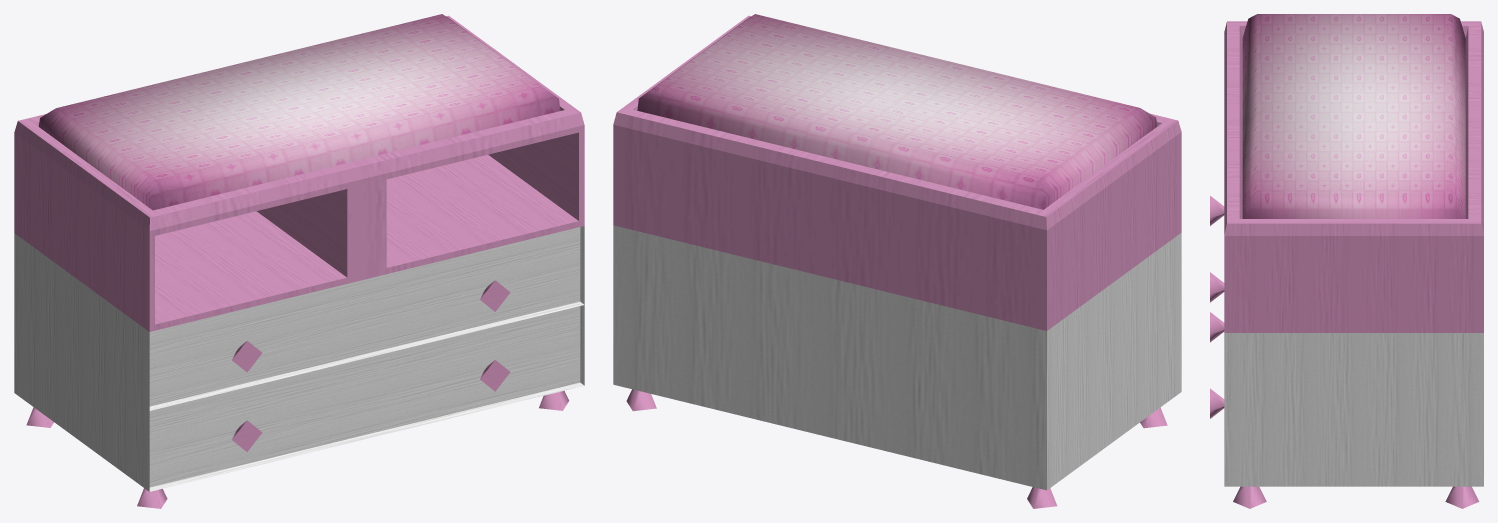
File: Changing_Table_D.FBX
3 renders of one model, left to right at view 1: azimuth 30°, elevation 25°; view 2: azimuth 150°, elevation 25°; view 3: azimuth 270°, elevation 25°, orthographic. The views are drawn at different scales.
Visible parts, largest first — view 1: Changing table; view 2: Changing table; view 3: Changing table.
Part boxes in pixels (x1=…): Changing table: x1=14, y1=14, x2=584, y2=508; Changing table: x1=613, y1=14, x2=1181, y2=508; Changing table: x1=1210, y1=14, x2=1483, y2=508.
Size of the model in its own units: 163 by 113 by 92.29.
